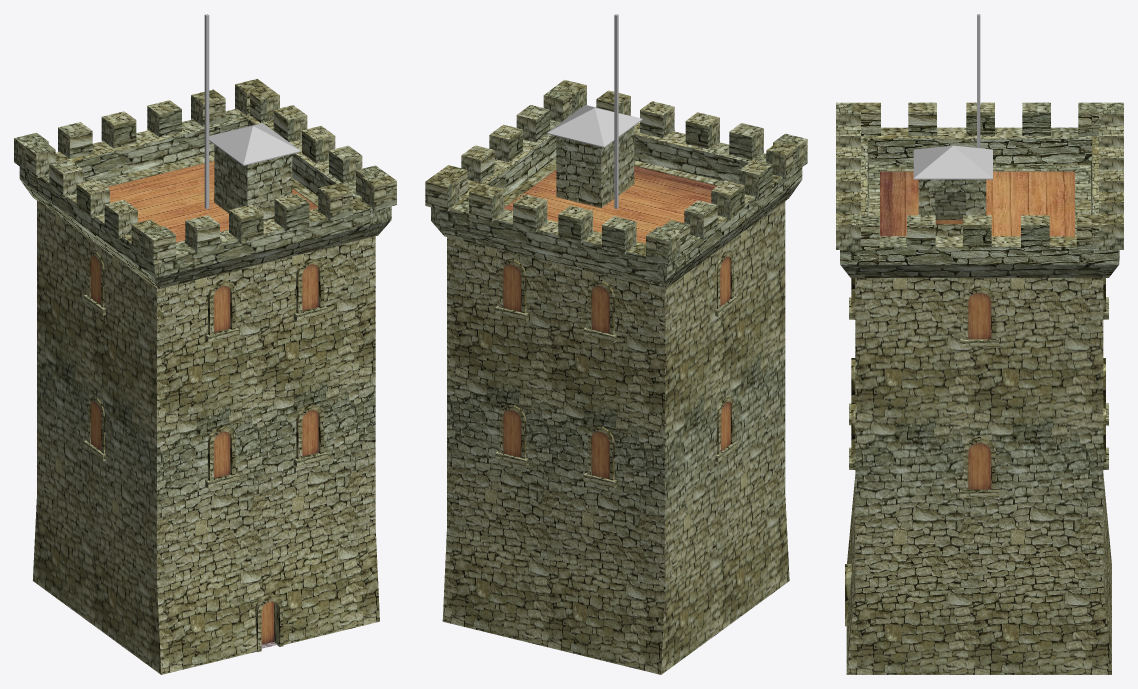
Rendered from SquareTower2.obj.
3 views of the same model, side by side, from view 1: azimuth 30°, elevation 25°; view 2: azimuth 150°, elevation 25°; view 3: azimuth 270°, elevation 25° (orthographic). The views are drawn at different scales.
Visible parts, largest first — view 1: limestone, floor, roof; view 2: limestone, floor, roof; view 3: limestone, floor, roof.
Boxes of the visible parts, left/top/right/bottom form: limestone: left=14, top=79, right=396, bottom=674; floor: left=90, top=161, right=318, bottom=644; roof: left=204, top=14, right=300, bottom=208; limestone: left=425, top=79, right=807, bottom=674; floor: left=503, top=166, right=730, bottom=479; roof: left=547, top=14, right=642, bottom=208; limestone: left=836, top=102, right=1123, bottom=674; floor: left=880, top=171, right=1074, bottom=489; roof: left=913, top=14, right=992, bottom=179.
Size of the model in its own units: 84.84 by 196 by 84.17.
